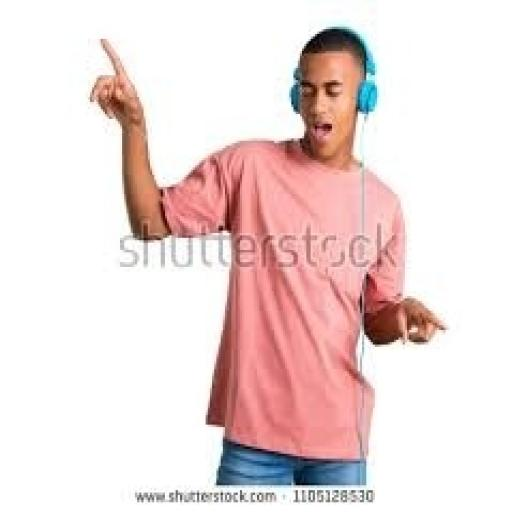listening_to_music: (86, 24, 450, 488)
